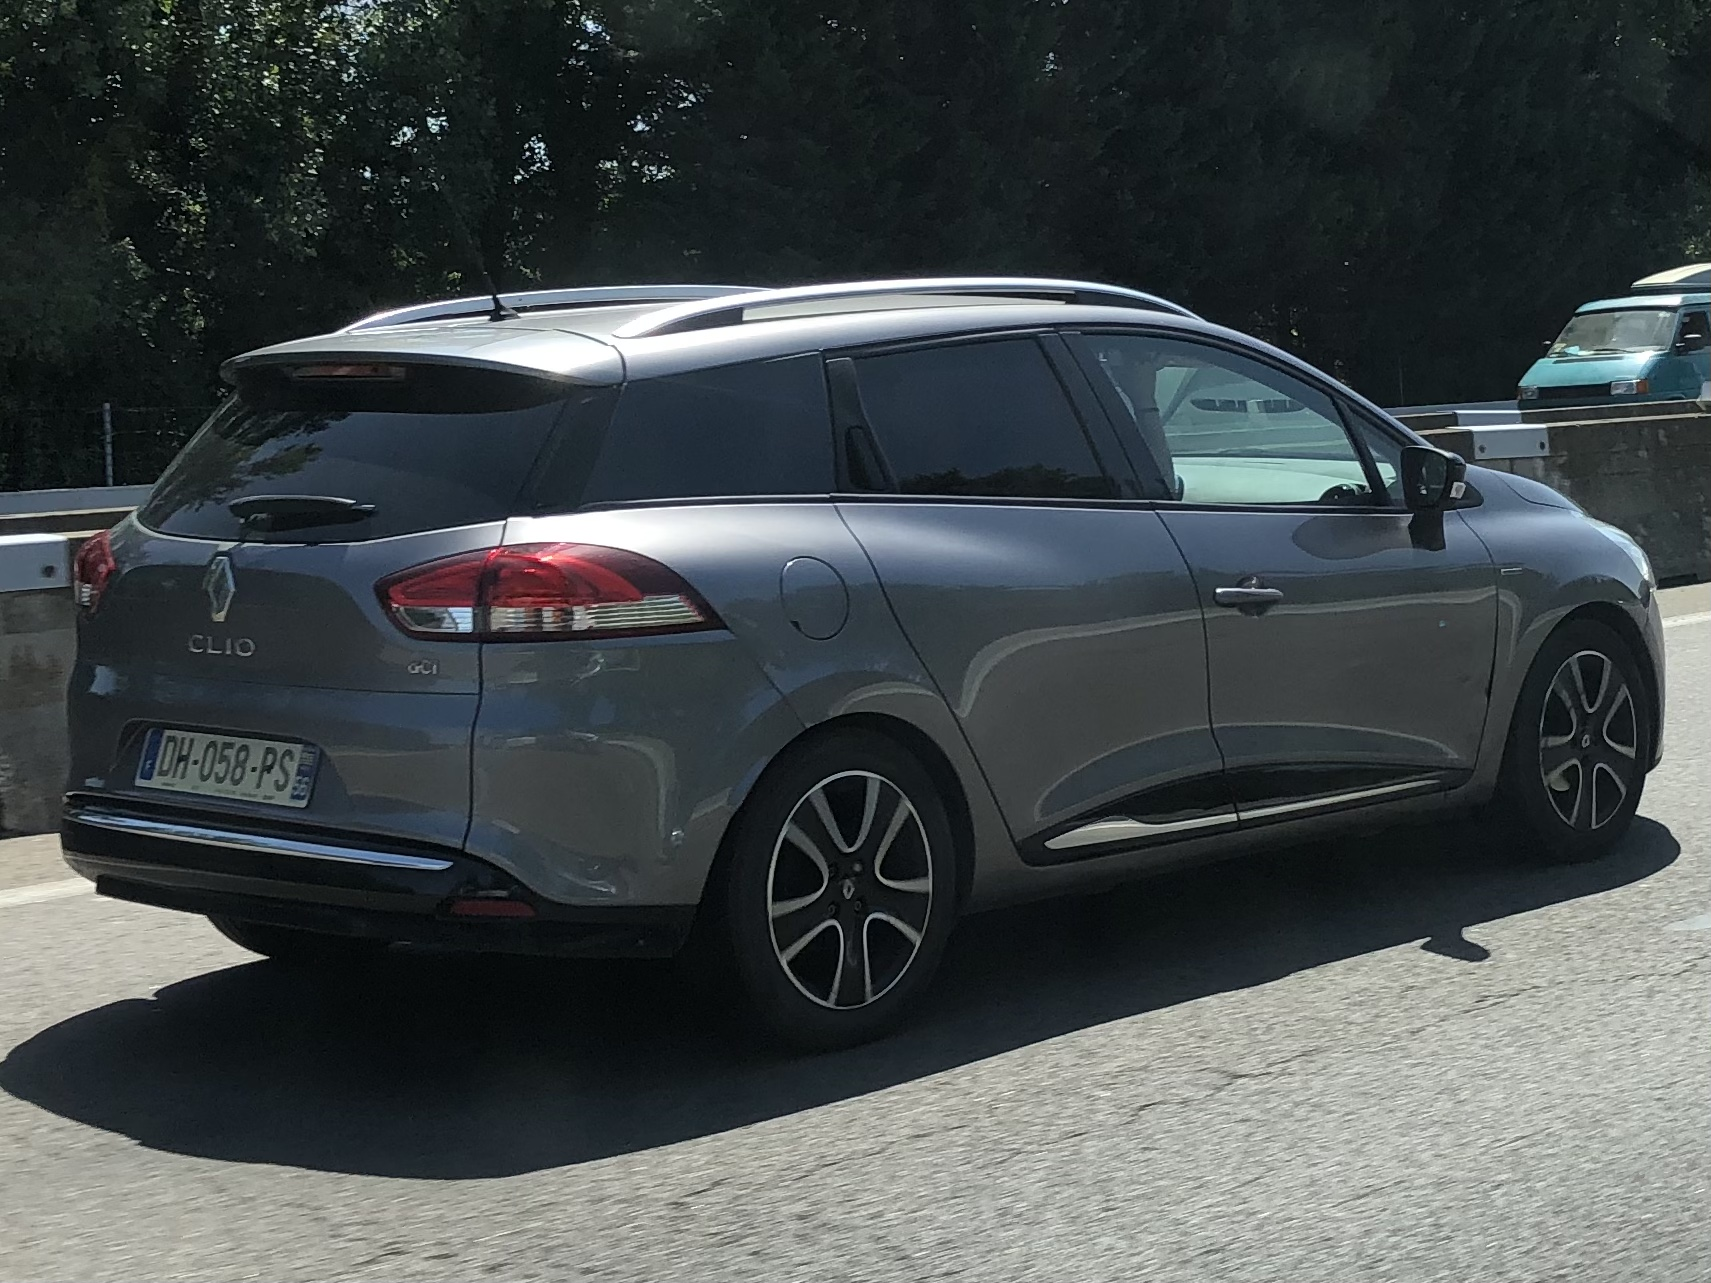licence plate: (131, 719, 324, 810)
